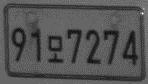1: (30, 27, 43, 63)
2: (84, 28, 102, 64)
4: (121, 30, 139, 65)
7: (101, 28, 120, 66), (65, 28, 82, 65)
9: (10, 27, 27, 63)
모: (46, 34, 65, 64)
